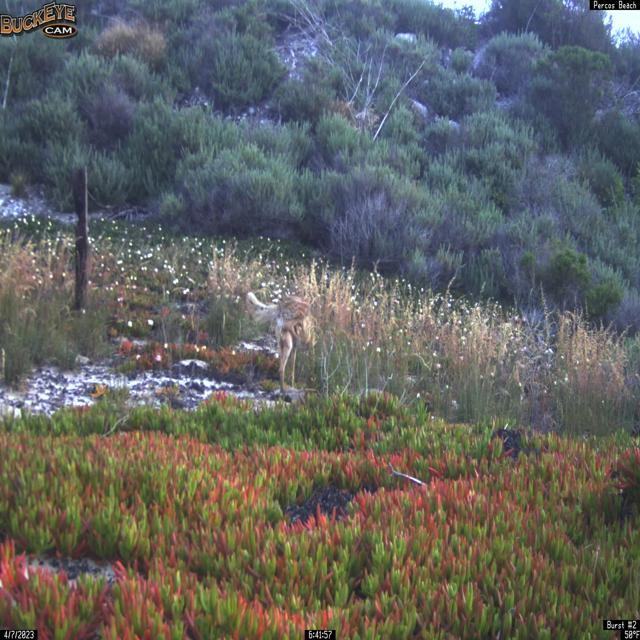coyote: (244, 290, 318, 395)
